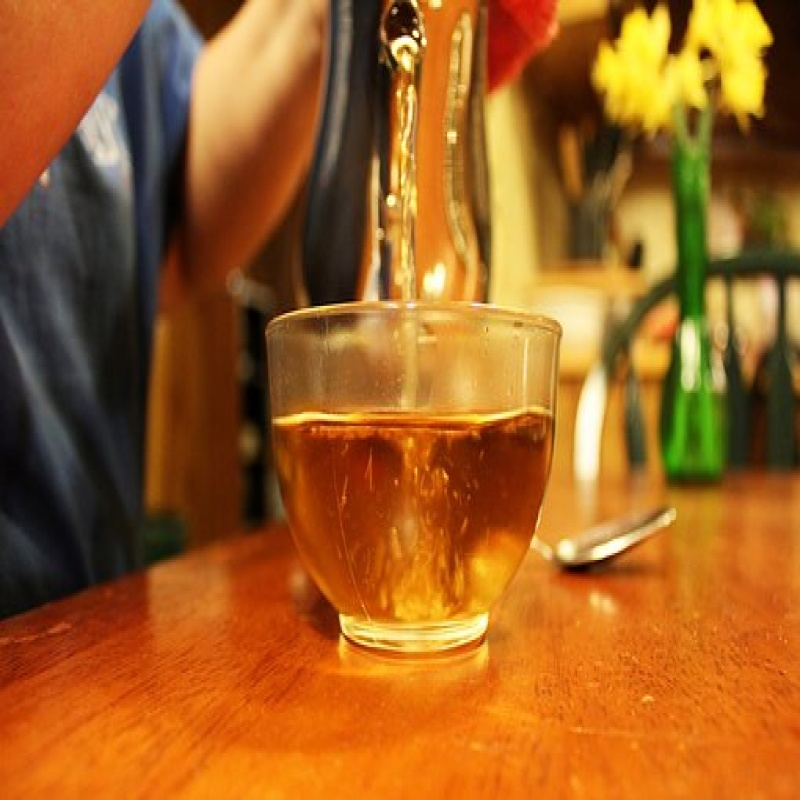whiskey: (254, 297, 564, 665)
